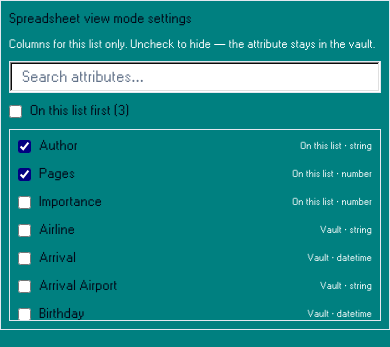
SpreadsheetViewSettings › searches attributes
Type "year" into the field named "Search spreadsheet columns".
click(195, 77); type("year")  # box [9, 61, 381, 93]
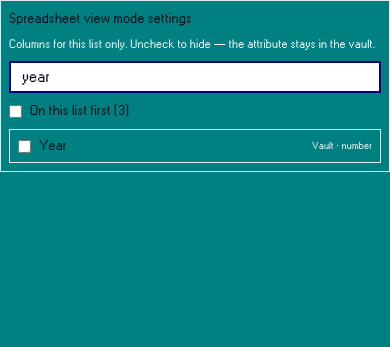
Check: the checkbox named "Year column" is shown, box [18, 140, 31, 152]
